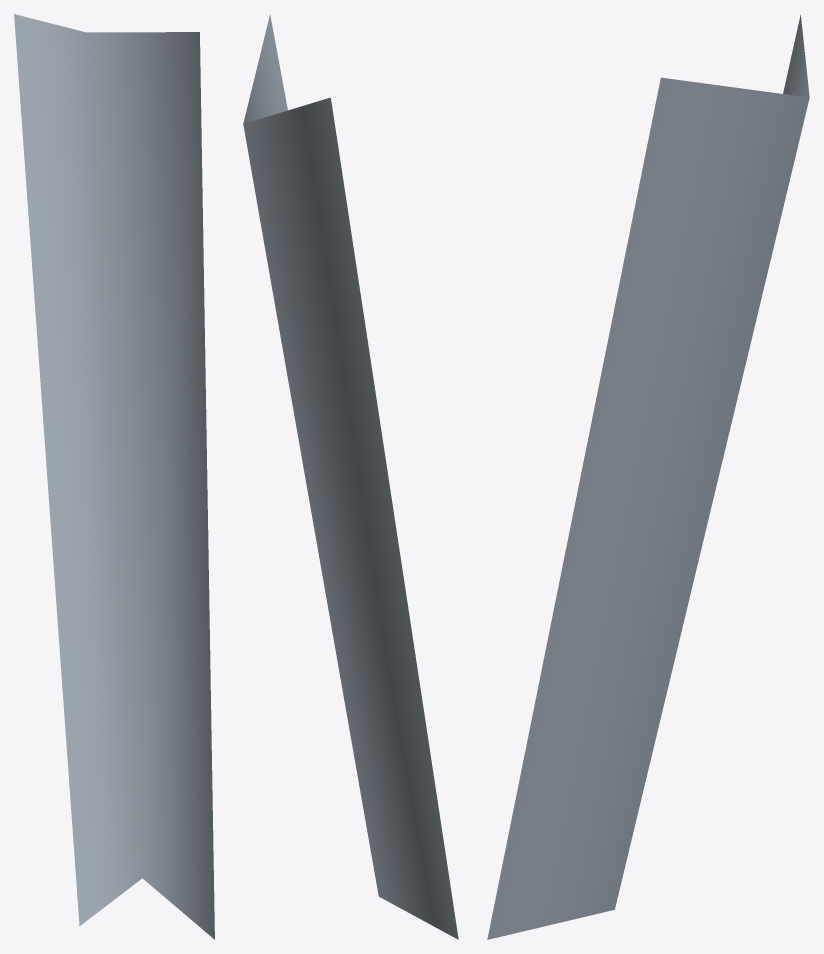
File: intercornual-ligament-l.glb
The picture shows the model from 3 angles, left to right: view 1: azimuth 30°, elevation 25°; view 2: azimuth 150°, elevation 25°; view 3: azimuth 270°, elevation 25°; orthographic projection. The views are drawn at different scales.
Visible parts, largest first — view 1: Intercornual ligament.l; view 2: Intercornual ligament.l; view 3: Intercornual ligament.l.
Boxes of the visible parts, box(x1,y1,x2,y2) form: Intercornual ligament.l: box(14, 14, 214, 939); Intercornual ligament.l: box(243, 14, 458, 939); Intercornual ligament.l: box(487, 15, 809, 939).
Bounding box in the file's own units: 0.00388 × 0.0211 × 0.00684.
